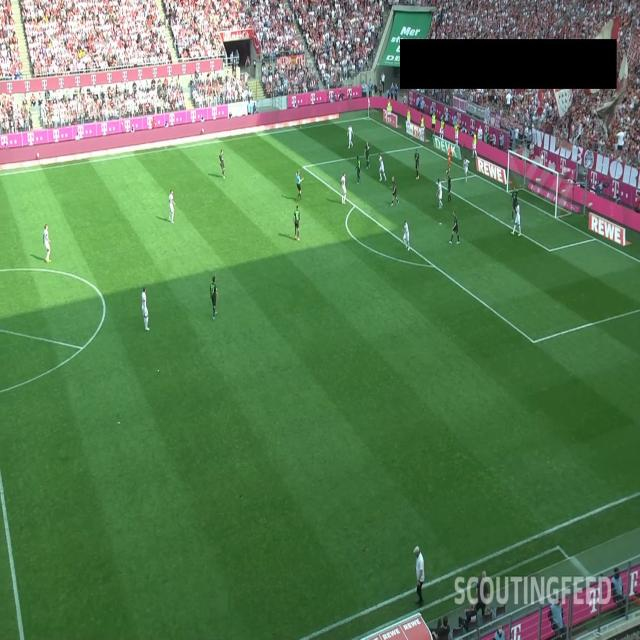ball: (447, 152, 450, 156)
